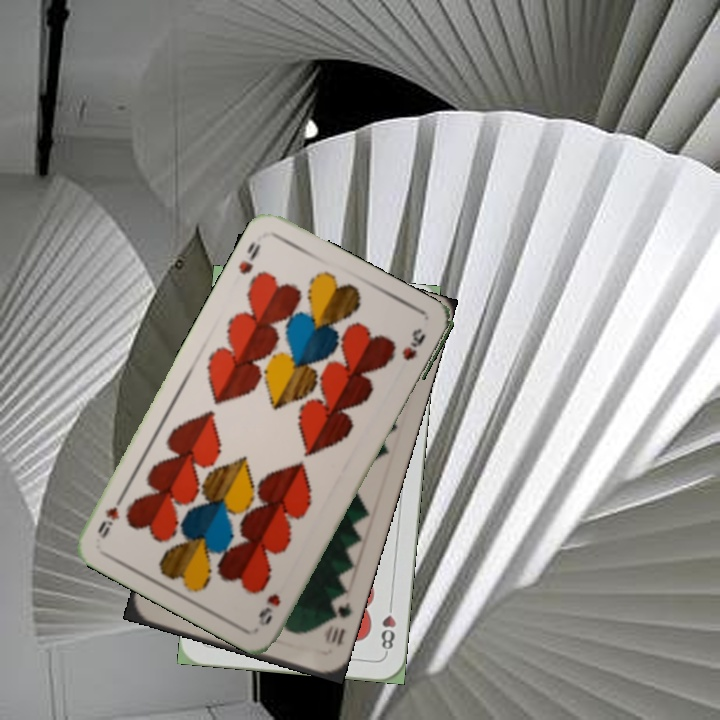G10: (320, 598, 354, 649)
H8: (377, 597, 398, 657)
H9: (254, 589, 283, 629), (234, 238, 263, 277)
